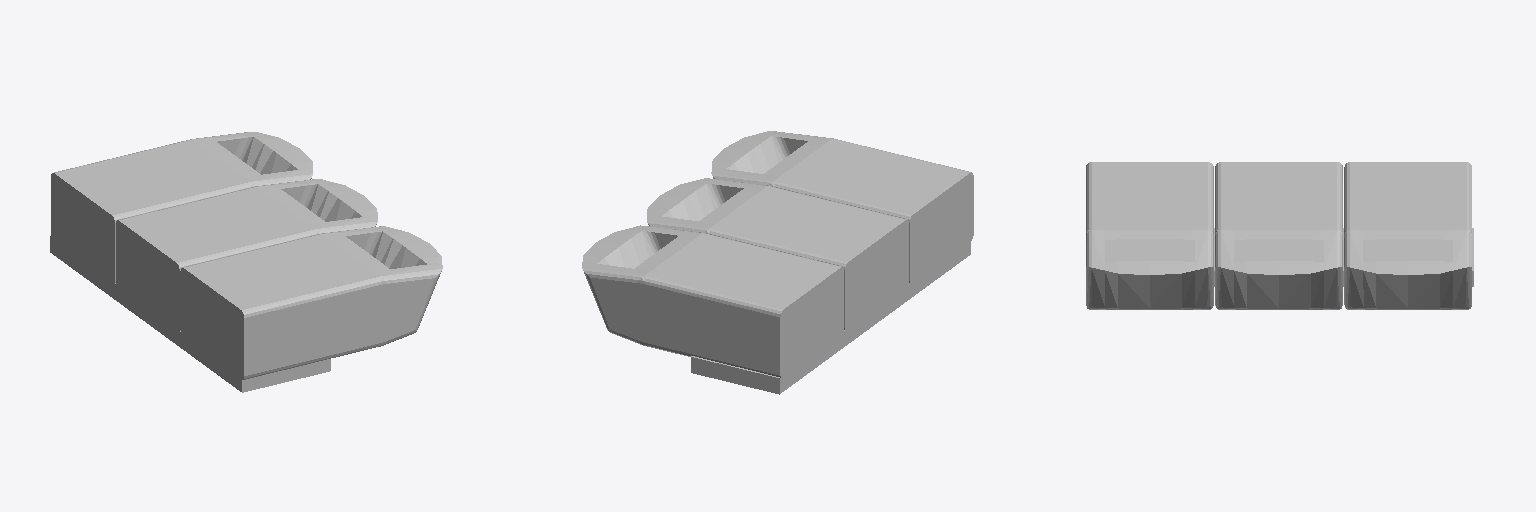
File: ゴミ箱.obj
3 renders of one model, left to right at view 1: azimuth 30°, elevation 25°; view 2: azimuth 150°, elevation 25°; view 3: azimuth 270°, elevation 25°, orthographic.
Bounding box in the file's own units: 0.9801 × 0.3541 × 1.52.